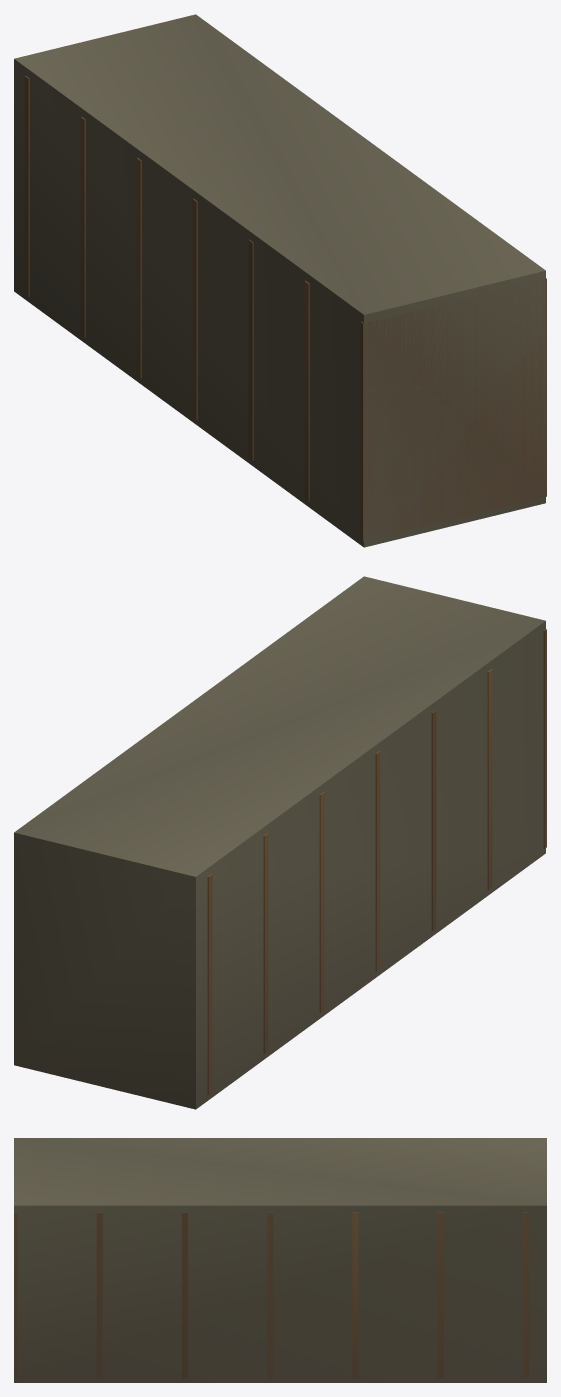
File: m01_forward_post_intact_lod1.glb
3 renders of one model, top to bottom at view 1: azimuth 30°, elevation 25°; view 2: azimuth 150°, elevation 25°; view 3: azimuth 270°, elevation 25°, orthographic. The views are drawn at different scales.
Visible parts, largest first — view 1: forward_post; view 2: forward_post; view 3: forward_post.
Part boxes in pixels (x1=…): forward_post: x1=14, y1=14, x2=546, y2=547; forward_post: x1=14, y1=576, x2=546, y2=1109; forward_post: x1=14, y1=1138, x2=546, y2=1382.
Size of the model in its own units: 0.91 by 1.1 by 3.
